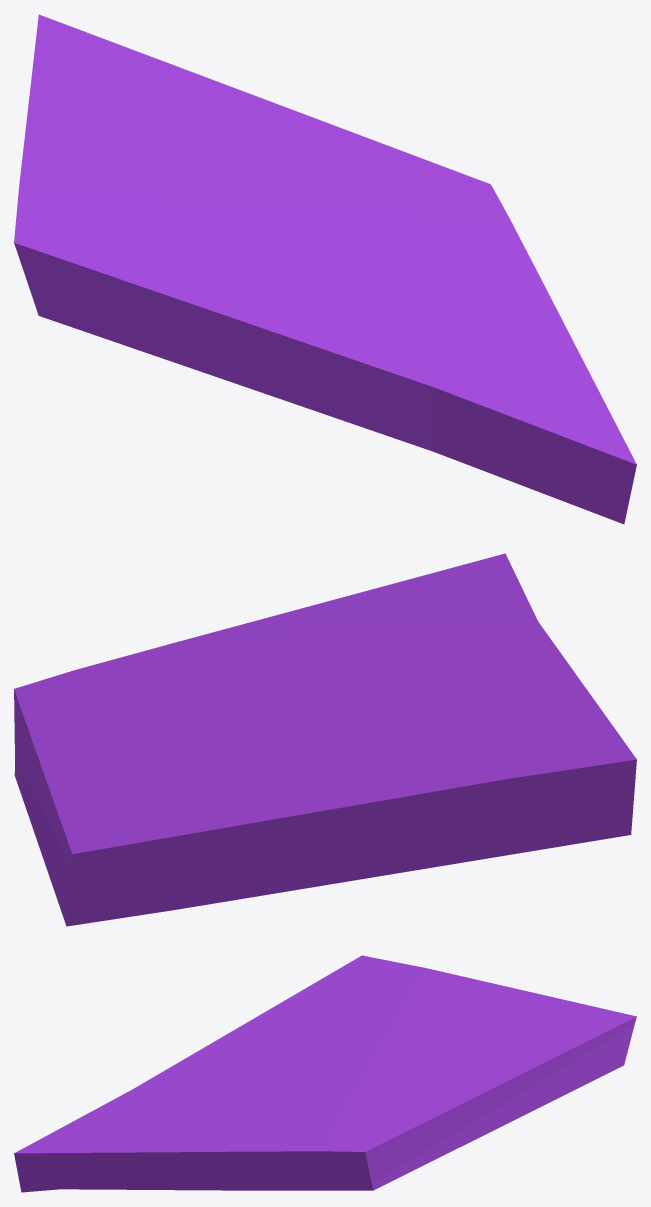
Rendered from Glass_100_3_12_chunks.fbx.
The picture shows the model from 3 angles, top to bottom: view 1: azimuth 30°, elevation 25°; view 2: azimuth 150°, elevation 25°; view 3: azimuth 270°, elevation 25°; orthographic projection. The views are drawn at different scales.
Visible parts, largest first — view 1: Glass_100_3_12_0; view 2: Glass_100_3_12_0; view 3: Glass_100_3_12_0.
Boxes of the visible parts, <box> form: Glass_100_3_12_0: <box>14,14,636,524</box>; Glass_100_3_12_0: <box>14,553,636,926</box>; Glass_100_3_12_0: <box>14,955,636,1192</box>.
Bounding box in the file's own units: 272 × 110 × 458.
